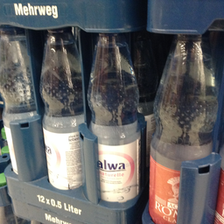water: (147, 35, 220, 224), (86, 32, 142, 202), (38, 27, 85, 191), (1, 25, 35, 178)
